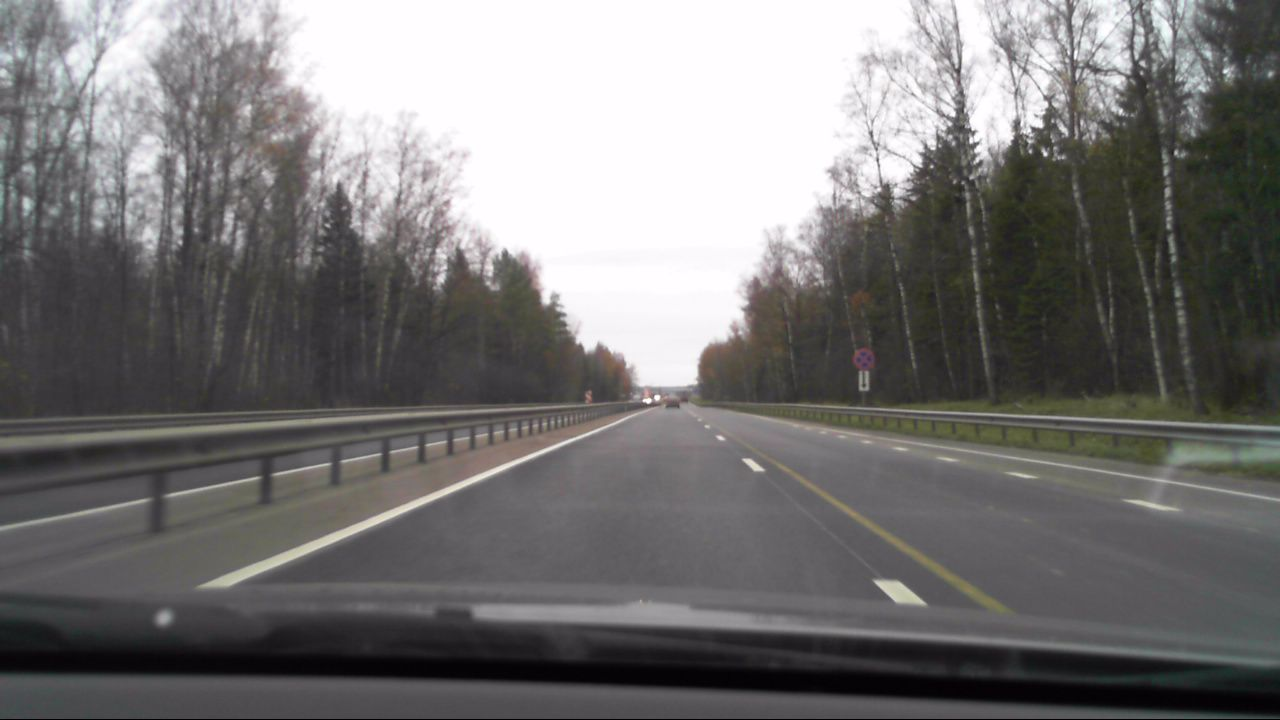No Parking: (853, 347, 875, 370)
